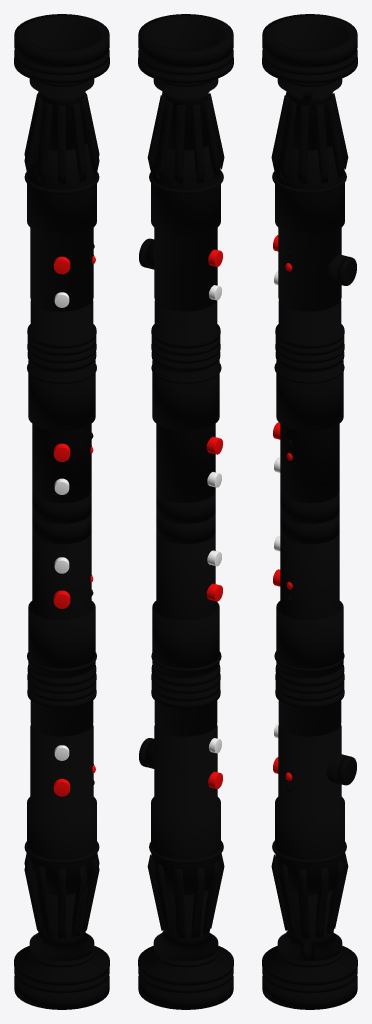
Rendered from MaulSaber.fbx.
3 renders of one model, left to right at view 1: azimuth 90°, elevation 25°; view 2: azimuth 150°, elevation 25°; view 3: azimuth 330°, elevation 25°, orthographic.
Parts seen in each view (by area): view 1: Maul; view 2: Maul; view 3: Maul.
Boxes of the visible parts, bbox=[...] form: Maul: bbox=[14, 14, 109, 1009]; Maul: bbox=[138, 14, 233, 1009]; Maul: bbox=[262, 14, 357, 1009].
Bounding box in the file's own units: 36.41 × 400 × 36.41.
